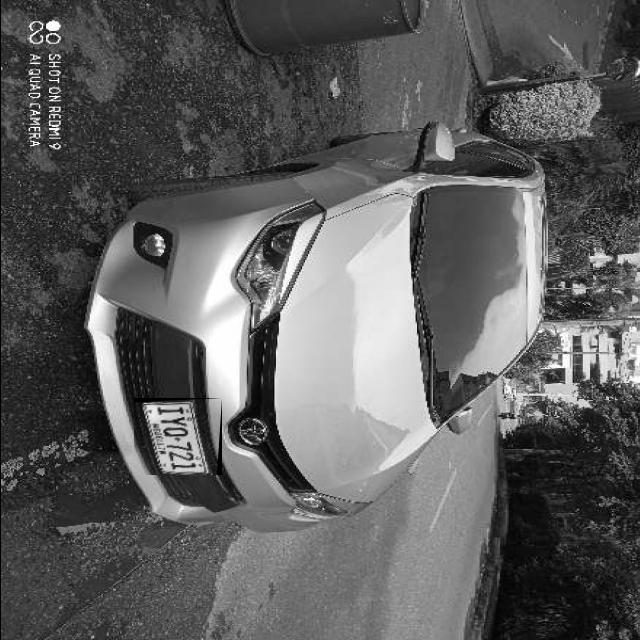plate: (133, 401, 216, 475)
